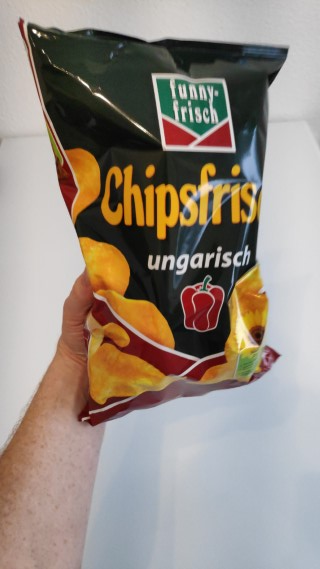chipsfrisch: (16, 14, 293, 429)
